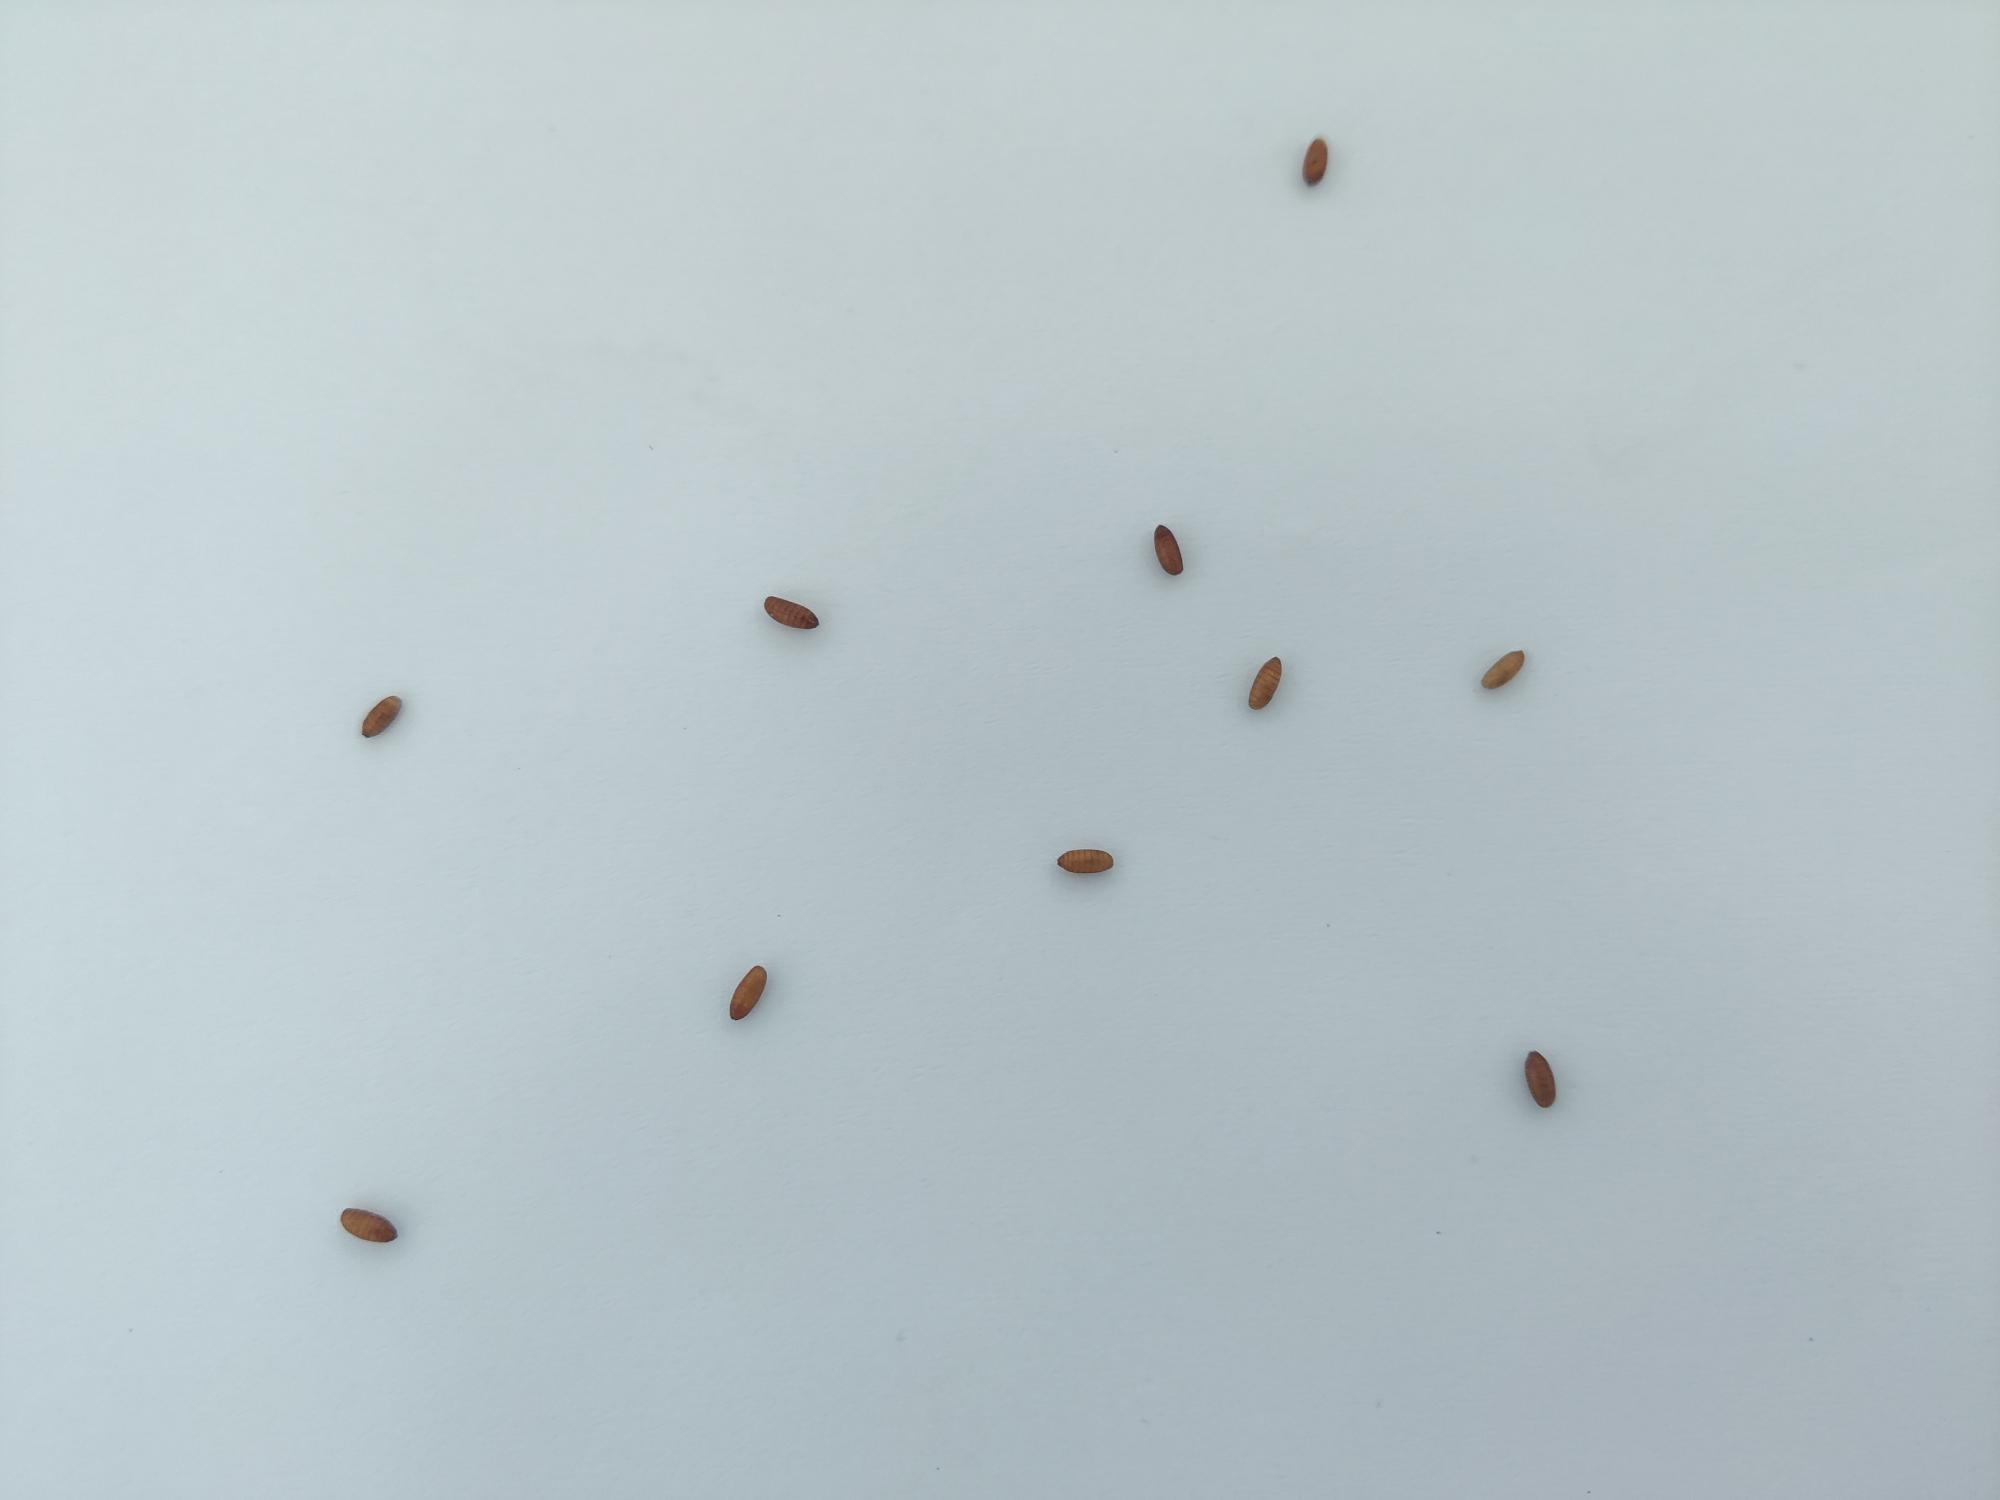pupae: (331, 1197, 403, 1253), (718, 961, 773, 1027), (1241, 648, 1291, 718), (1148, 515, 1194, 586), (354, 689, 409, 747), (1049, 838, 1121, 882), (1520, 1038, 1559, 1117), (1296, 128, 1337, 203), (1474, 646, 1534, 696), (759, 594, 827, 635)
